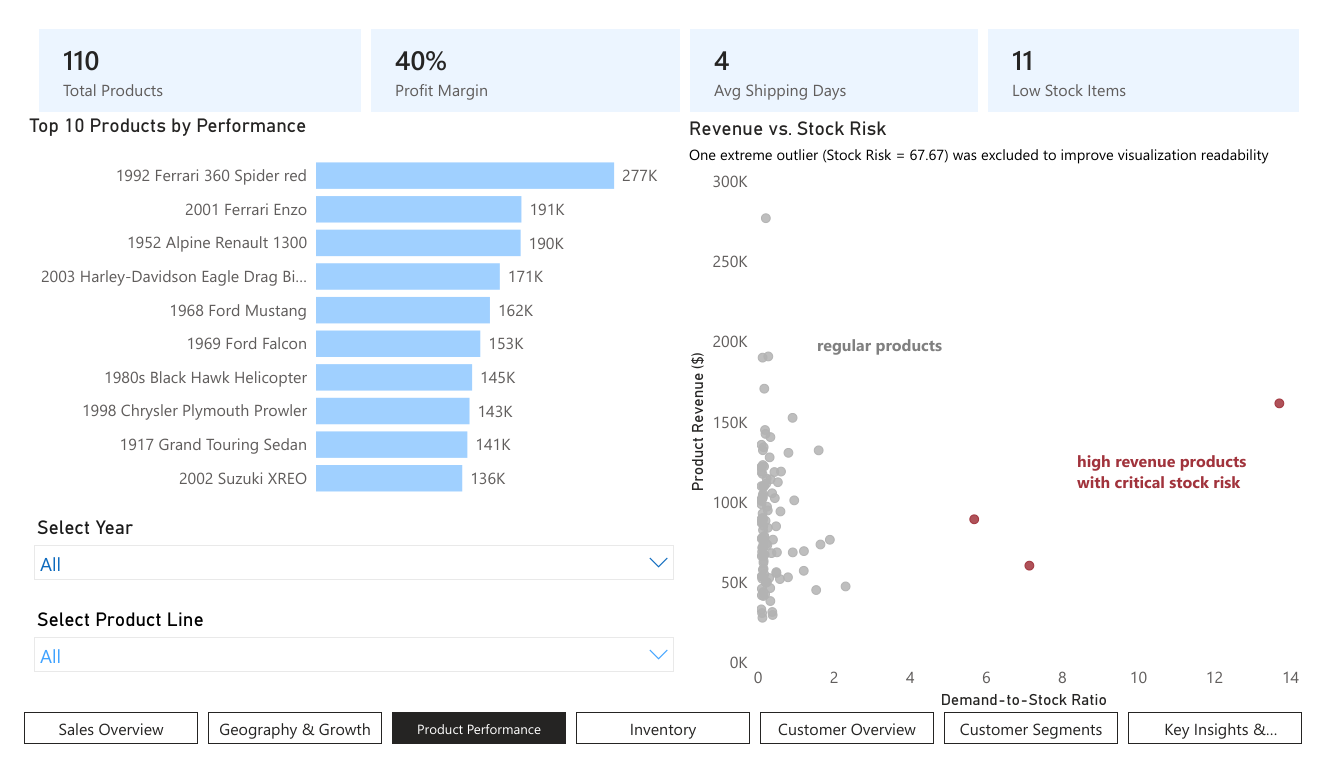

The page's visual inventory and layout, read from the dashboard file:
{"tool":"powerbi","page":{"name":"Product Performance","canvas":[1280,720],"ordinal":2},"visuals":[{"type":"cardVisual","fields":{"Data":["_Measures.Total Products"]},"box":[9.6,0,332.4,93.4],"z":0},{"type":"cardVisual","fields":{"Data":["_Measures.Profit Margin %"]},"box":[342,0,318.7,93.4],"z":1000},{"type":"cardVisual","fields":{"Data":["_Measures.Avg Shipping Days"]},"box":[660.7,0,298.1,93.4],"z":2000},{"type":"cardVisual","fields":{"Data":["_Measures.Low Stock Items"]},"box":[958.8,0,321.4,93.4],"z":3000},{"type":"barChart","title":"Top 10 Products by Performance","fields":{"Category":["products.productName"],"Y":["_Measures.Total Revenue"]},"box":[0,90.1,639.4,396.2],"z":4000},{"type":"scatterChart","title":"Revenue vs. Stock Risk","fields":{"X":["_Measures.Low Stock Ratio"],"Category":["products.productName"],"Y":["_Measures.Total Revenue"]},"box":[660,93.3,620.2,595.5],"z":5000},{"type":"slicer","fields":{"Values":["products.productLine"]},"box":[0,579.1,660,79.6],"z":6000},{"type":"slicer","fields":{"Values":["DateTable.Year"]},"box":[0,487.1,660,74.1],"z":7000},{"type":"textbox","box":[787.7,304.6,295,41.2],"z":8000},{"type":"textbox","box":[1048.4,421.3,196.2,65.9],"z":9000},{"type":"pageNavigator","box":[0,688.4,1280.3,31.6],"z":10000}]}

Visuals, with their boxes in screenshot pixels (x1, y1, x2, y2), scaled from the page's 1280x720 canvas onto the 1328x768 screenshot:
cardVisual - _Measures.Total Products: (10,0,355,100)
cardVisual - _Measures.Profit Margin %: (355,0,685,100)
cardVisual - _Measures.Avg Shipping Days: (685,0,995,100)
cardVisual - _Measures.Low Stock Items: (995,0,1327,100)
"Top 10 Products by Performance" barChart: (0,96,663,519)
"Revenue vs. Stock Risk" scatterChart: (685,100,1327,735)
slicer - products.productLine: (0,618,685,703)
slicer - DateTable.Year: (0,520,685,599)
textbox: (817,325,1123,369)
textbox: (1088,449,1291,520)
pageNavigator: (0,734,1327,767)
